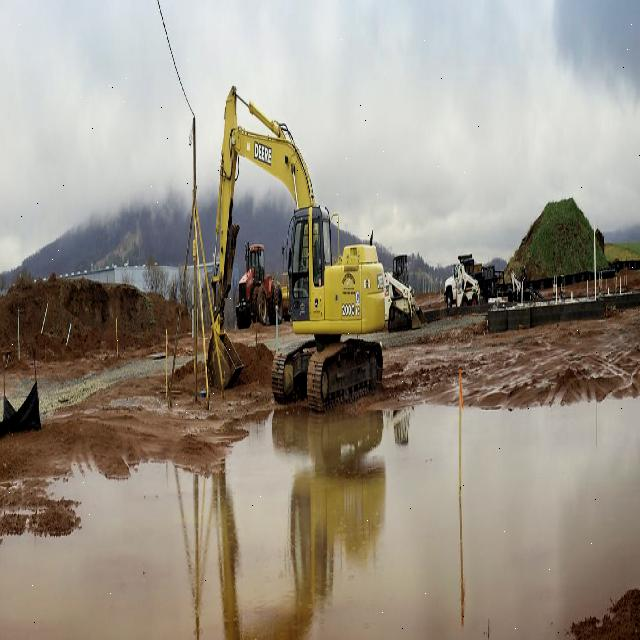Excavator: (208, 77, 387, 405)
